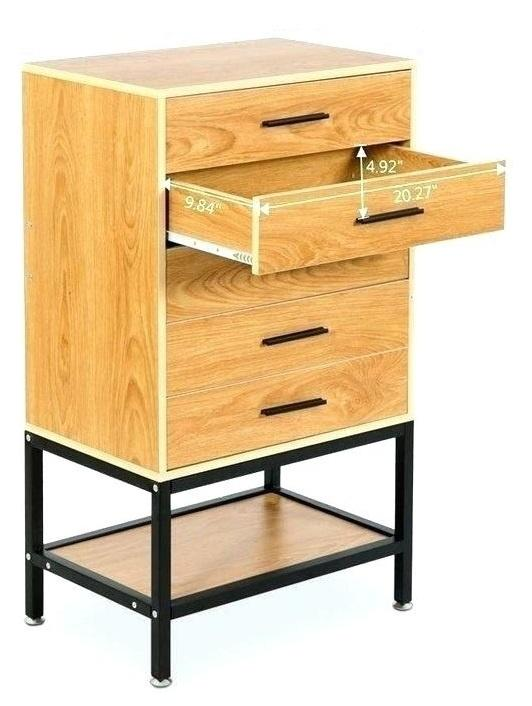cabinet_door: (253, 182, 503, 259), (164, 88, 407, 163), (163, 376, 406, 450), (167, 308, 409, 371), (166, 236, 410, 296)
handle: (250, 102, 333, 132), (259, 321, 329, 356), (259, 389, 331, 423), (355, 201, 427, 227)
